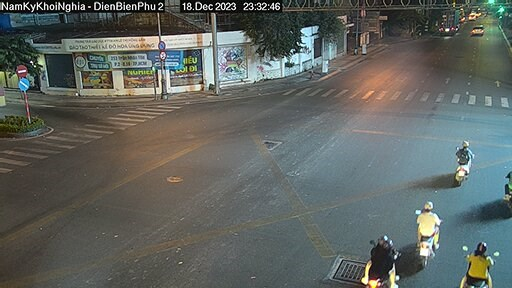car: (471, 22, 484, 38)
motorbike: (406, 198, 446, 273), (461, 234, 498, 288), (450, 134, 473, 187)
truck: (439, 5, 463, 35)
